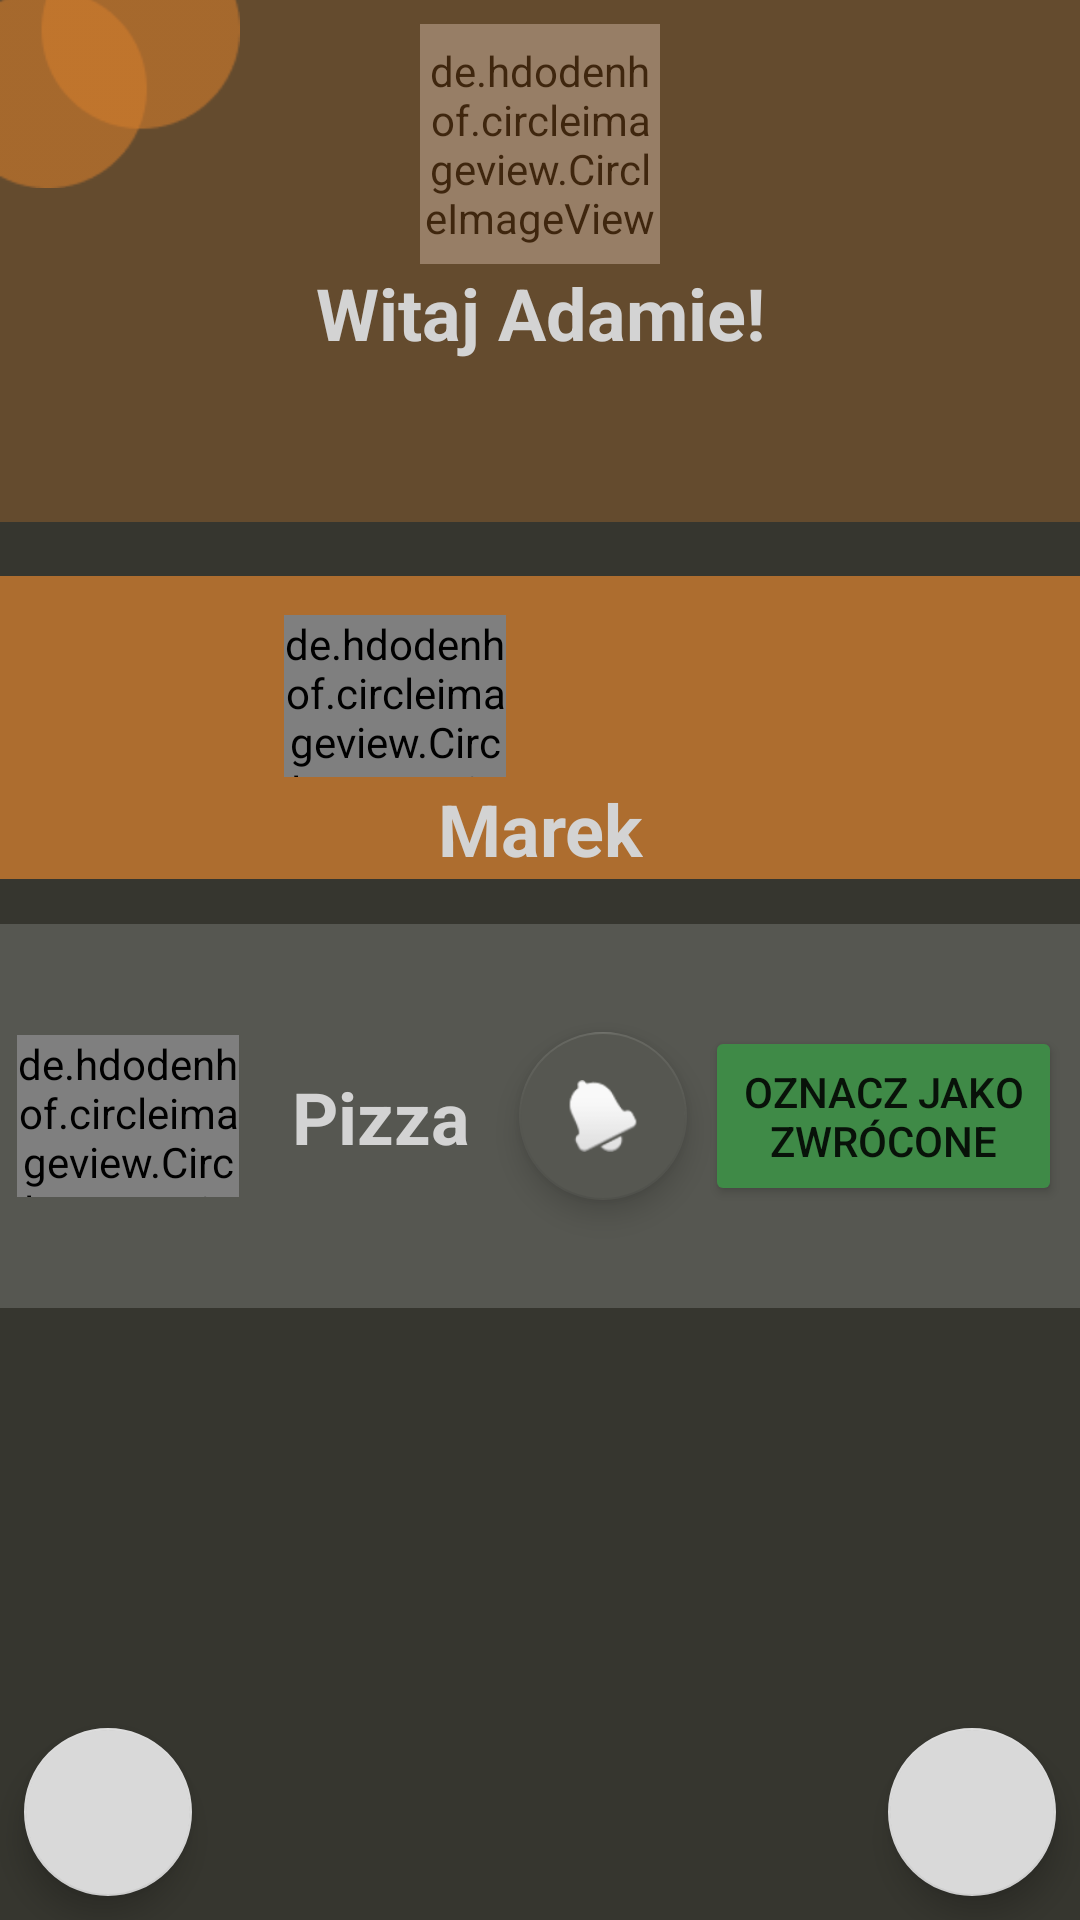

Icon bounding boxes for this 1080*1920 phone screenshot, format (x1, y1, x2, y2):
popup reminder: (569, 1032, 637, 1152)
